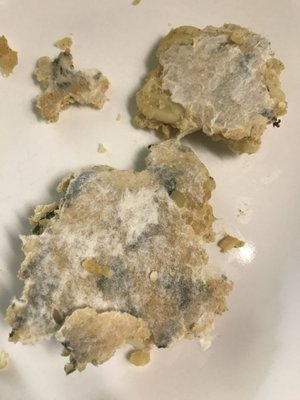curry: (32, 35, 111, 123)
